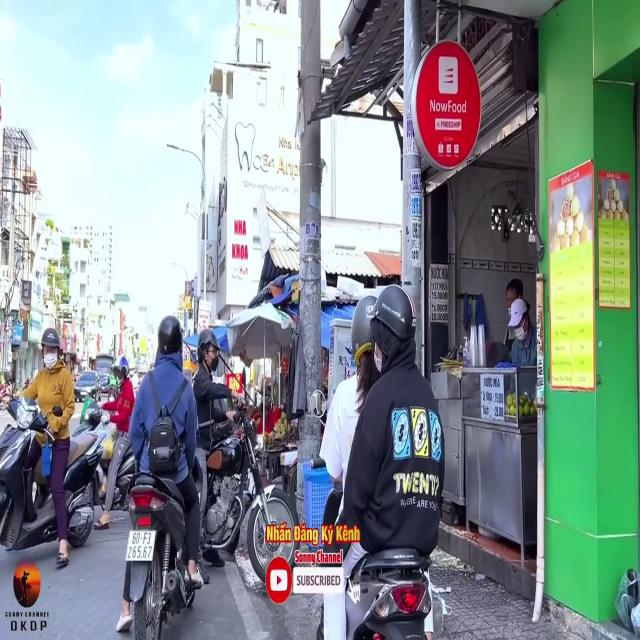bien_trang: (128, 531, 154, 558)
